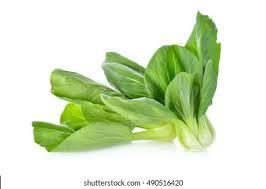Healthy-Pechay: (22, 18, 231, 147)
